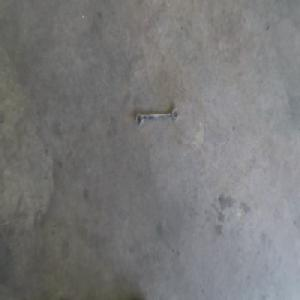Wrench: (133, 107, 179, 128)
